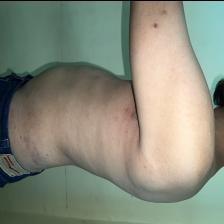Dermatitis kontak alergi: (148, 5, 171, 34)
